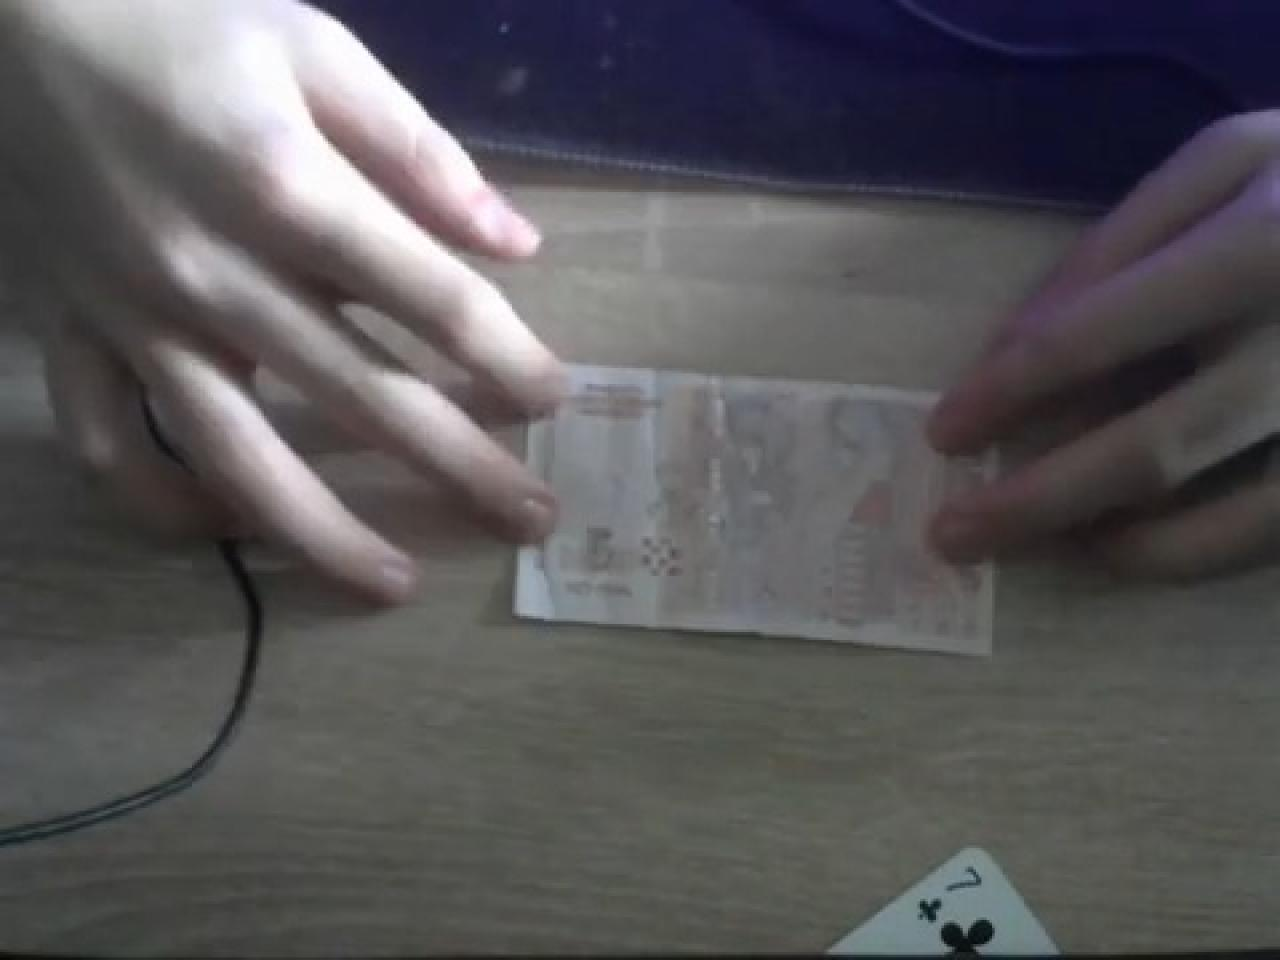5leva: (512, 365, 998, 662)
